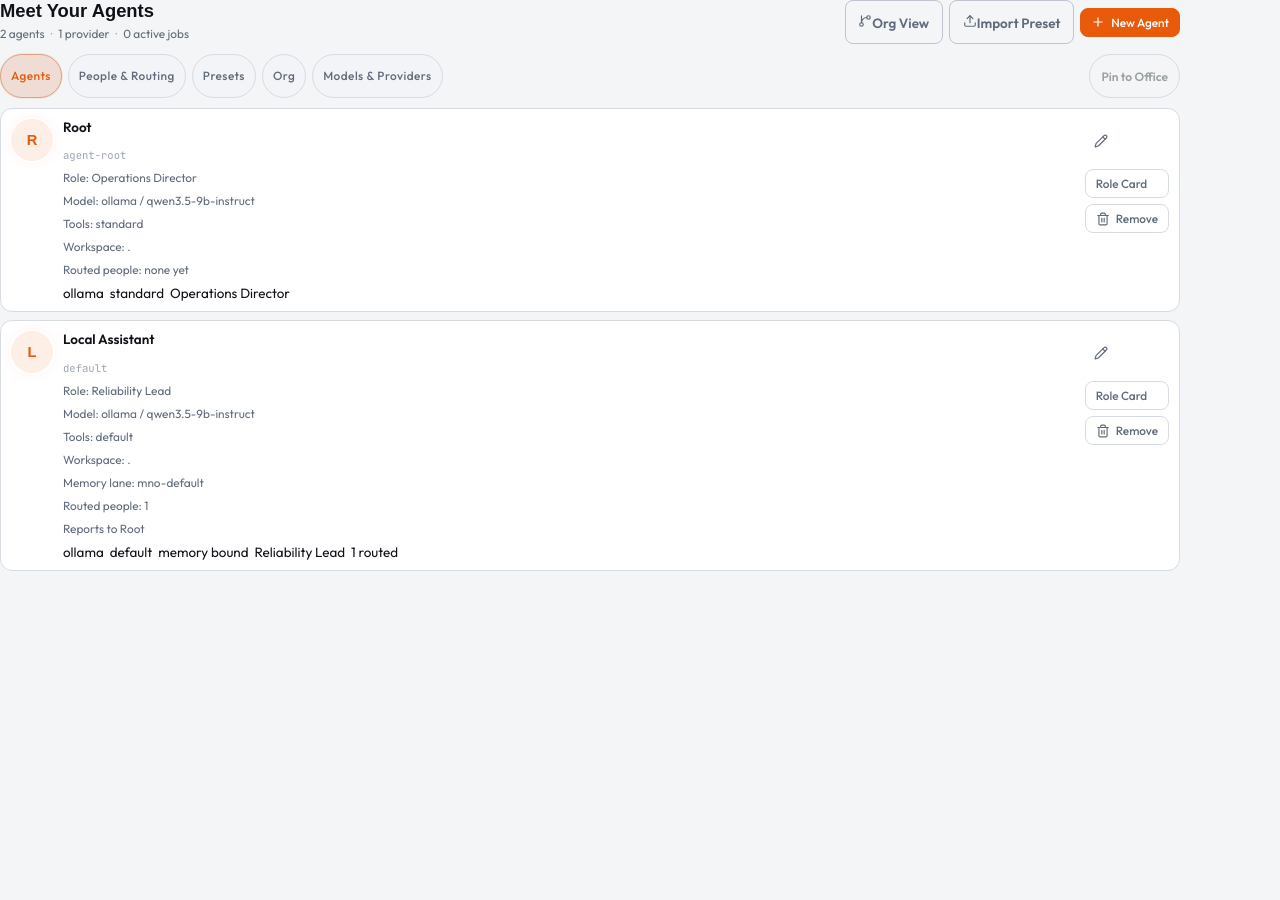
Test: TeamPage Trenches parity › opens the authoritative role card with manager and routed-person context
Click the 2nd button "Role Card" at (1127, 396), box x1=1085 y1=382 x2=1169 y2=410
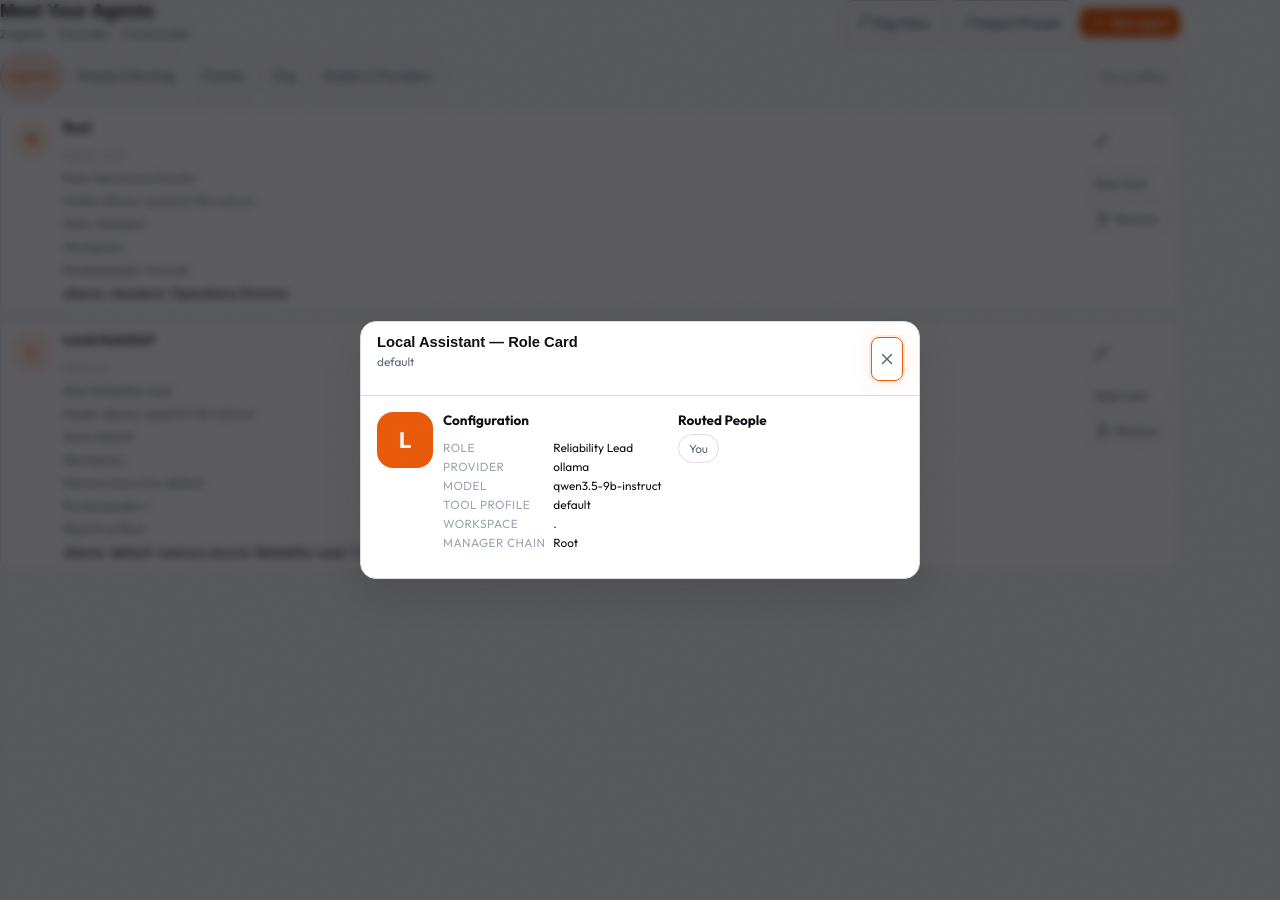
Expected: the text "Root" is shown, x1=63 y1=119 x2=92 y2=135
Now the text "Local Assistant — Role Card" is shown, box x1=377 y1=334 x2=578 y2=350
Now the text "Manager Chain" is shown, box x1=443 y1=535 x2=545 y2=550
